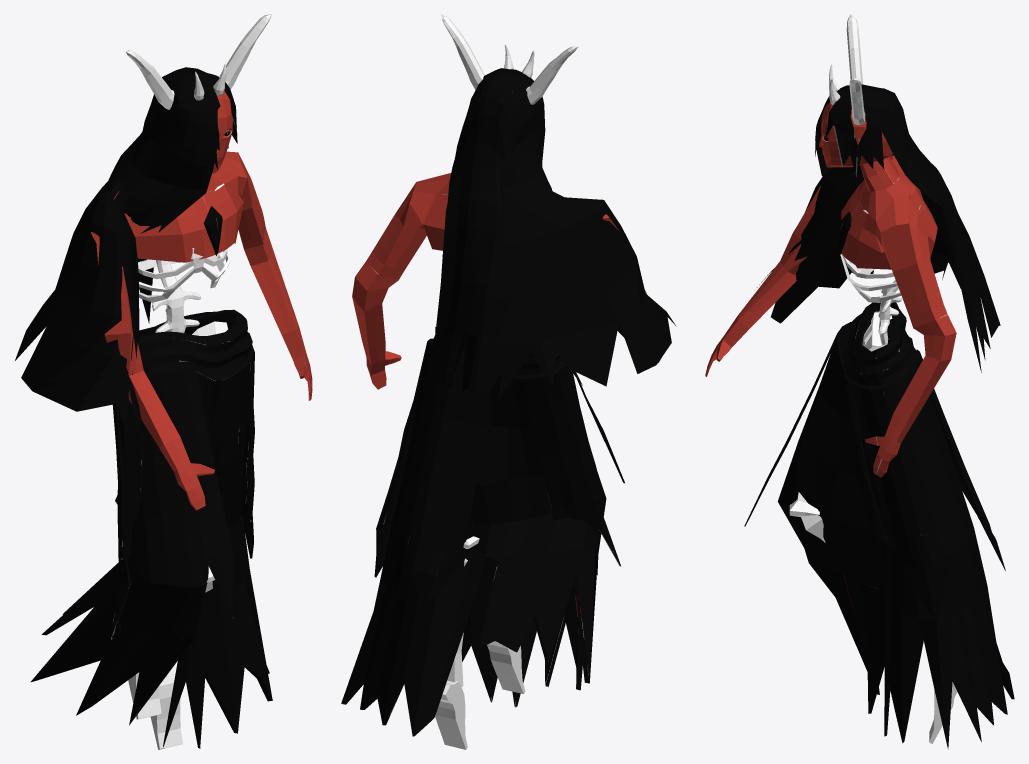
The model's file is cursedqueenattack_21.fbx.
3 renders of one model, left to right at view 1: azimuth 30°, elevation 25°; view 2: azimuth 150°, elevation 25°; view 3: azimuth 270°, elevation 25°, orthographic. The views are drawn at different scales.
Visible parts, largest first — view 1: cursed_queen; view 2: cursed_queen; view 3: cursed_queen.
Part boxes in pixels (bbox=[...]): cursed_queen: bbox=[15, 14, 312, 749]; cursed_queen: bbox=[341, 14, 676, 749]; cursed_queen: bbox=[705, 14, 1014, 749].
Bounding box in the file's own units: 115 × 278 × 114.
